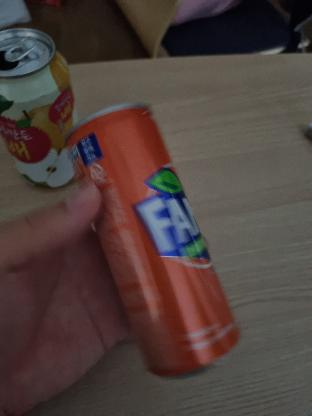Can: (67, 101, 251, 375)
